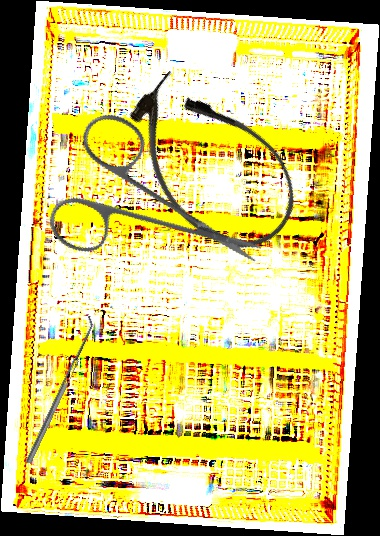Cannula: (104, 53, 319, 274)
Iris Scissors: (20, 79, 265, 326)
Spatula Surgical: (19, 314, 99, 465)
